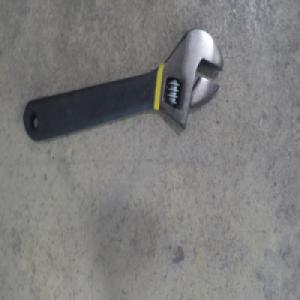AdjustableWrench: (23, 27, 224, 141)
